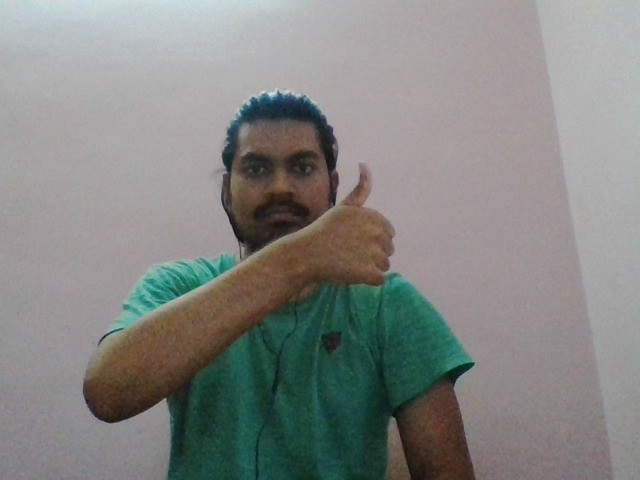ThumbsUp: (322, 157, 396, 288)
